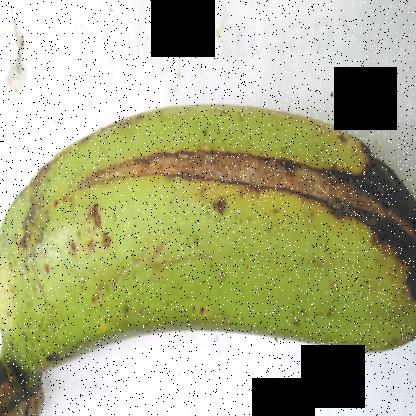rotten: (78, 99, 416, 332)
